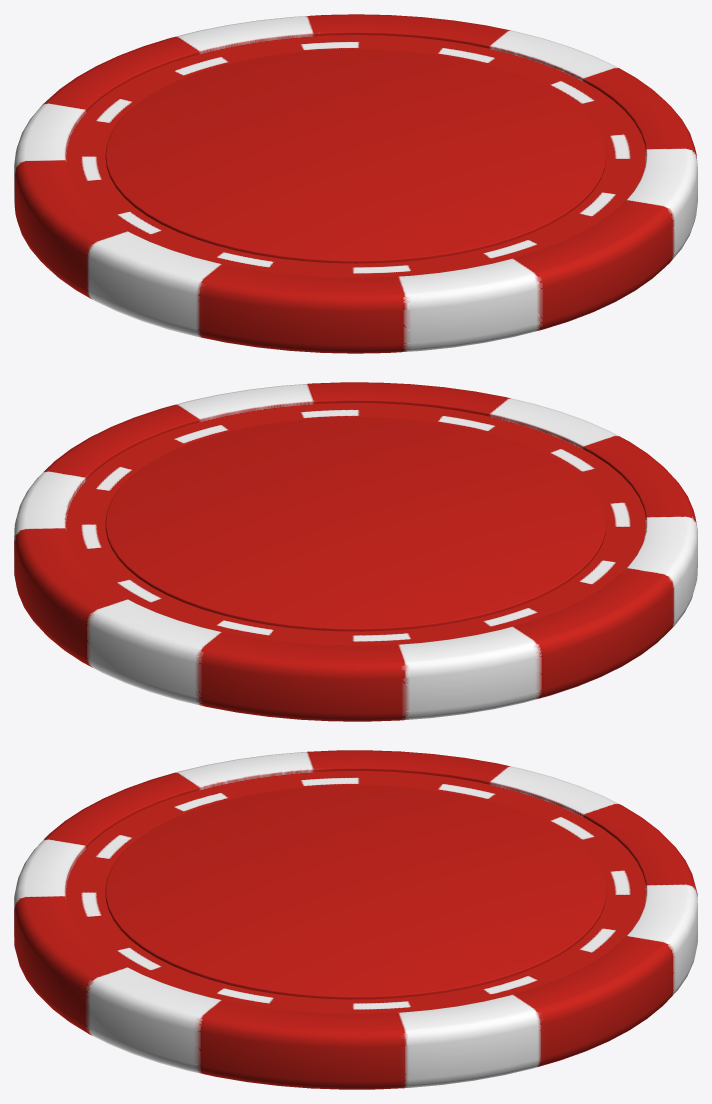
Rendered from red.glb.
3 renders of one model, top to bottom at view 1: azimuth 30°, elevation 25°; view 2: azimuth 150°, elevation 25°; view 3: azimuth 270°, elevation 25°, orthographic.
Visible parts, largest first — view 1: chips.557; view 2: chips.557; view 3: chips.557.
Boxes of the visible parts, left/top/right/bottom form: chips.557: left=14, top=14, right=697, bottom=353; chips.557: left=14, top=382, right=697, bottom=721; chips.557: left=14, top=750, right=697, bottom=1089.
Bounding box in the file's own units: 2 × 0.1882 × 2.
1 material, 1 textured.
